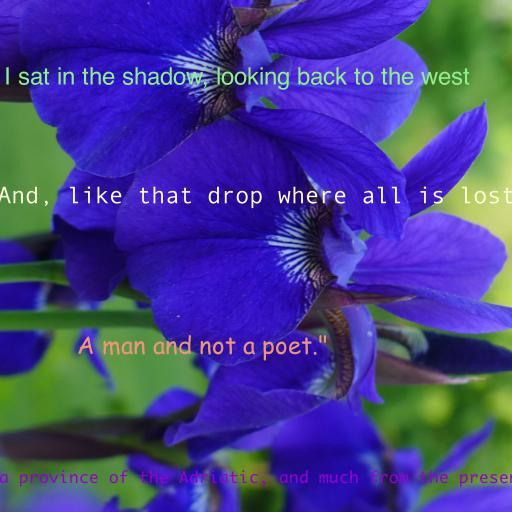Andale Mono: (0, 186, 512, 209)
Big Caslon: (4, 67, 470, 90)
Comic Sans MS: (76, 335, 328, 361)
Monaco: (0, 470, 512, 487)
